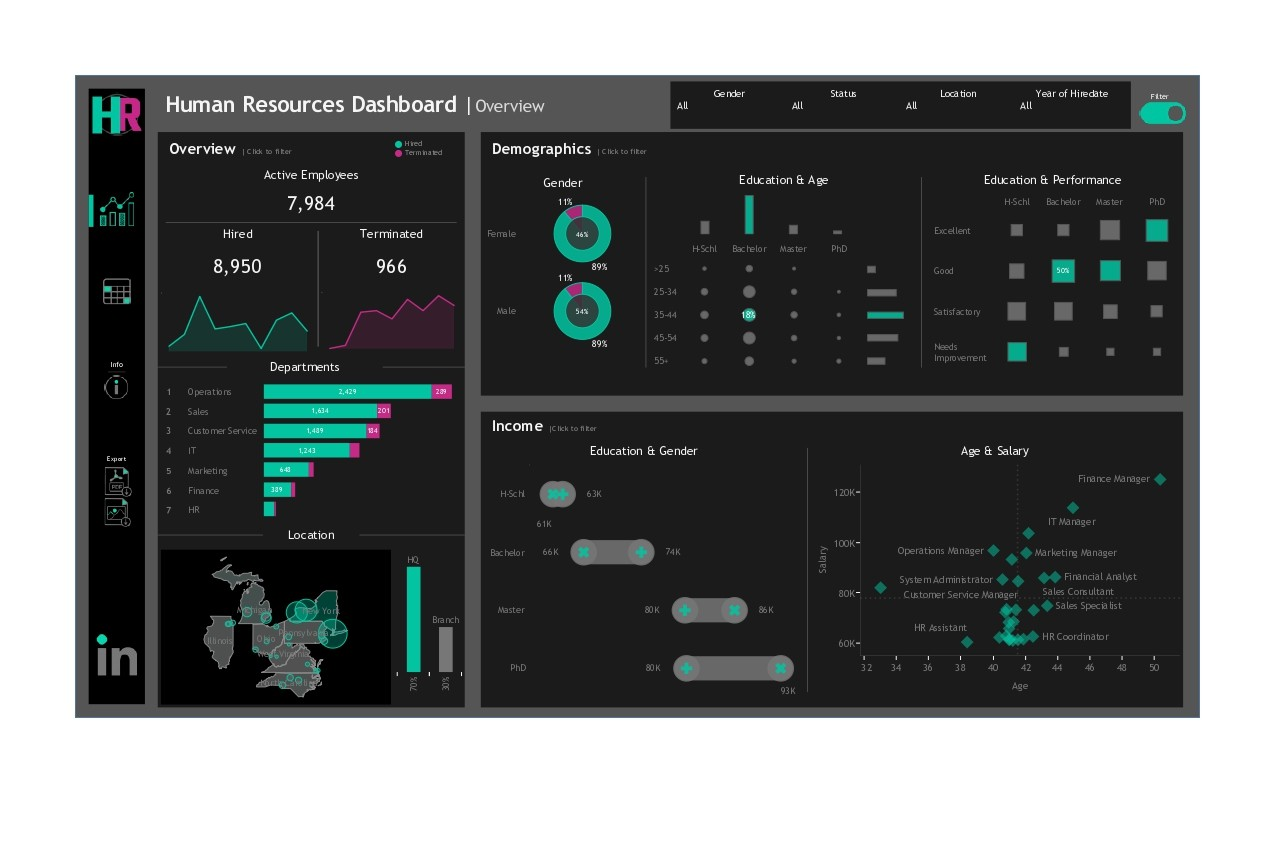

What the dashboard file says about the page in this screenshot:
{"tool":"tableau","page":{"name":"HR | Summary","canvas":[1400,800],"ordinal":1},"visuals":[{"type":"blank","box":[87,0,1313,125]},{"type":"text","box":[103,1,695,70]},{"type":"blank","box":[798,1,581,70]},{"type":"filter","title":"Gender vs Educational Level","param":"[federated.04m26540avmyyz11mbsv81vhinmk].[none:Gender:nk]","box":[743,10,143,55]},{"type":"filter","title":"Gender vs Educational Level","param":"[federated.04m26540avmyyz11mbsv81vhinmk].[none:Calculation_1552053029310259214:n","box":[886,10,142,55]},{"type":"filter","title":"Gender vs Educational Level","param":"[federated.04m26540avmyyz11mbsv81vhinmk].[none:Calculation_1552053029165940742:n","box":[1028,10,142,55]},{"type":"filter","title":"Gender vs Educational Level","param":"[federated.04m26540avmyyz11mbsv81vhinmk].[yr:Hiredate:ok]","box":[1170,10,142,55]},{"type":"text","box":[1300,11,100,30]},{"type":"dashboard-object","box":[1325,20,57,56]},{"type":"image","param":"Image/Logo.png","box":[21,21,62,55]},{"type":"text","box":[103,71,382,40]},{"type":"text","box":[505,71,874,41]},{"type":"text","box":[395,73,88,36]},{"type":"blank","box":[21,76,62,60]},{"type":"text","box":[103,111,382,29]},{"type":"text","box":[505,117,205,32]},{"type":"blank","box":[710,117,1,257]},{"type":"text","box":[711,117,342,29]},{"type":"blank","box":[1053,117,1,257]},{"type":"text","box":[1054,117,325,29]},{"type":"text","box":[87,125,1313,162]},{"type":"worksheet","title":"BAN Active","mark":"Text","box":[103,140,382,45]},{"type":"dashboard-object","box":[31,146,42,42]},{"type":"worksheet","title":"Educational Level","mark":"Bar","rows":["Calculation_1552053029158821888"],"cols":["Education Level"],"box":[711,146,342,58]},{"type":"worksheet","title":"Education VS Performance","mark":"Square","rows":["Performance Rating"],"cols":["Education Level"],"box":[1054,146,325,228]},{"type":"blank","box":[17,149,6,40]},{"type":"worksheet","title":"Gender","mark":"Pie","rows":["Gender"],"cols":["Calculation_1552053029182799882","Calculation_1552053029182799882"],"box":[505,149,205,193]},{"type":"blank","box":[103,185,382,1]},{"type":"text","box":[103,186,199,29]},{"type":"blank","box":[302,186,1,164]},{"type":"text","box":[303,186,181.9,29]},{"type":"blank","box":[31,188,42,60]},{"type":"worksheet","title":"Age vs Education","mark":"Circle","rows":["Calculation_1552053029205336077"],"cols":["Education Level"],"box":[711,204,271,170]},{"type":"worksheet","title":"Age Groups","mark":"Bar","rows":["Calculation_1552053029205336077"],"cols":["Calculation_1552053029158821888"],"box":[982,204,55,170]},{"type":"worksheet","title":"BAN Hired","mark":"Text","box":[103,215,199,56]},{"type":"worksheet","title":"BAN Terminated","mark":"Text","box":[303,215,181.9,55]},{"type":"dashboard-object","box":[31,248,42,42]},{"type":"worksheet","title":"Terminated by Year","mark":"Line","rows":["Calculation_1552053029159018497","Calculation_1552053029159018497"],"cols":["Termdate"],"box":[303,270,181.9,80]},{"type":"worksheet","title":"Hired by Year","mark":"Line","rows":["Calculation_1552053029158821888","Calculation_1552053029158821888"],"cols":["Hiredate"],"box":[103,271,199,79]},{"type":"blank","box":[87,287,1313,513]},{"type":"blank","box":[31,290,42,60]},{"type":"text","box":[31,350,42,22]},{"type":"blank","box":[103,350,86,30]},{"type":"text","box":[189,350,194,30]},{"type":"blank","box":[383,350,102,30]},{"type":"blank","box":[31,372,42,1]},{"type":"dashboard-object","box":[31,373,42,36.3]},{"type":"blank","box":[505,374,874,10]},{"type":"worksheet","title":"Department","mark":"Bar","rows":["Calculation_1552053029165256708","Department"],"cols":["Calculation_1552053029158821888"],"box":[103,380,382,177]},{"type":"blank","box":[31,409.3,42,60]},{"type":"text","box":[505,419,874,35]},{"type":"text","box":[505,454,406,29]},{"type":"blank","box":[911,454,1,324]},{"type":"text","box":[912,454,467,29]},{"type":"text","box":[31,469.3,42,20]},{"type":"worksheet","title":"Gender vs Educational Level","mark":"Square","rows":["Education Level"],"cols":["Salary","Salary"],"box":[505,483,406,295]},{"type":"worksheet","title":"Age vs Salary","mark":"Shape","rows":["Salary"],"cols":["Calculation_1552053029186613260"],"box":[912,483,467,295]},{"type":"dashboard-object","box":[31,489.3,42,36.3]},{"type":"dashboard-object","box":[31,525.7,42,36.3]},{"type":"blank","box":[103,557,130,30]},{"type":"text","box":[233,557,122,30]},{"type":"blank","box":[355,557,130,30]},{"type":"blank","box":[31,562,42,111]},{"type":"worksheet","title":"Map States","mark":"Automatic","box":[103,587,294,200]},{"type":"worksheet","title":"Location ","mark":"Bar","rows":["Calculation_1552053029158821888"],"cols":["Calculation_1552053029165940742","Calculation1"],"box":[397,587,88,200]},{"type":"image","param":"Image/contact-linkedin.png","box":[21,683,62,79]}]}

Visuals, with their boxes on the page's 1400x800 design canvas (x1, y1, x2, y2). These are canvas units, not pixel positions in the 1275x844 screenshot, which may show the page scaled, cropped or inside an application window:
blank: locate(87, 0, 1400, 125)
text: locate(103, 1, 798, 71)
blank: locate(798, 1, 1379, 71)
"Gender vs Educational Level" filter: locate(743, 10, 886, 65)
"Gender vs Educational Level" filter: locate(886, 10, 1028, 65)
"Gender vs Educational Level" filter: locate(1028, 10, 1170, 65)
"Gender vs Educational Level" filter: locate(1170, 10, 1312, 65)
text: locate(1300, 11, 1400, 41)
dashboard-object: locate(1325, 20, 1382, 76)
image: locate(21, 21, 83, 76)
text: locate(103, 71, 485, 111)
text: locate(505, 71, 1379, 112)
text: locate(395, 73, 483, 109)
blank: locate(21, 76, 83, 136)
text: locate(103, 111, 485, 140)
text: locate(505, 117, 710, 149)
blank: locate(710, 117, 711, 374)
text: locate(711, 117, 1053, 146)
blank: locate(1053, 117, 1054, 374)
text: locate(1054, 117, 1379, 146)
text: locate(87, 125, 1400, 287)
"BAN Active" worksheet (Text marks): locate(103, 140, 485, 185)
dashboard-object: locate(31, 146, 73, 188)
"Educational Level" worksheet (Bar marks): locate(711, 146, 1053, 204)
"Education VS Performance" worksheet (Square marks): locate(1054, 146, 1379, 374)
blank: locate(17, 149, 23, 189)
"Gender" worksheet (Pie marks): locate(505, 149, 710, 342)
blank: locate(103, 185, 485, 186)
text: locate(103, 186, 302, 215)
blank: locate(302, 186, 303, 350)
text: locate(303, 186, 485, 215)
blank: locate(31, 188, 73, 248)
"Age vs Education" worksheet (Circle marks): locate(711, 204, 982, 374)
"Age Groups" worksheet (Bar marks): locate(982, 204, 1037, 374)
"BAN Hired" worksheet (Text marks): locate(103, 215, 302, 271)
"BAN Terminated" worksheet (Text marks): locate(303, 215, 485, 270)
dashboard-object: locate(31, 248, 73, 290)
"Terminated by Year" worksheet (Line marks): locate(303, 270, 485, 350)
"Hired by Year" worksheet (Line marks): locate(103, 271, 302, 350)
blank: locate(87, 287, 1400, 800)
blank: locate(31, 290, 73, 350)
text: locate(31, 350, 73, 372)
blank: locate(103, 350, 189, 380)
text: locate(189, 350, 383, 380)
blank: locate(383, 350, 485, 380)
blank: locate(31, 372, 73, 373)
dashboard-object: locate(31, 373, 73, 409)
blank: locate(505, 374, 1379, 384)
"Department" worksheet (Bar marks): locate(103, 380, 485, 557)
blank: locate(31, 409, 73, 469)
text: locate(505, 419, 1379, 454)
text: locate(505, 454, 911, 483)
blank: locate(911, 454, 912, 778)
text: locate(912, 454, 1379, 483)
text: locate(31, 469, 73, 489)
"Gender vs Educational Level" worksheet (Square marks): locate(505, 483, 911, 778)
"Age vs Salary" worksheet (Shape marks): locate(912, 483, 1379, 778)
dashboard-object: locate(31, 489, 73, 526)
dashboard-object: locate(31, 526, 73, 562)
blank: locate(103, 557, 233, 587)
text: locate(233, 557, 355, 587)
blank: locate(355, 557, 485, 587)
blank: locate(31, 562, 73, 673)
"Map States" worksheet: locate(103, 587, 397, 787)
"Location " worksheet (Bar marks): locate(397, 587, 485, 787)
image: locate(21, 683, 83, 762)
